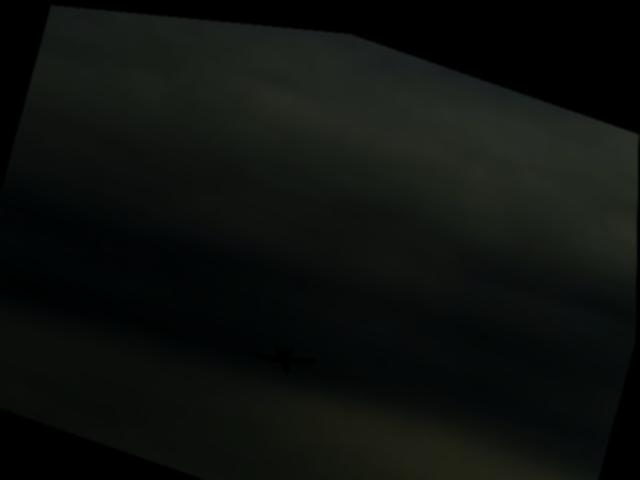uav: (244, 320, 329, 389)
